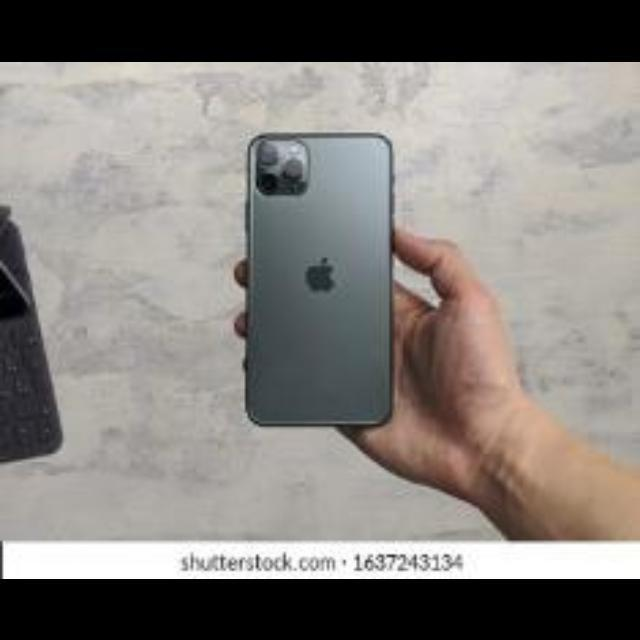phone: (238, 119, 400, 437)
